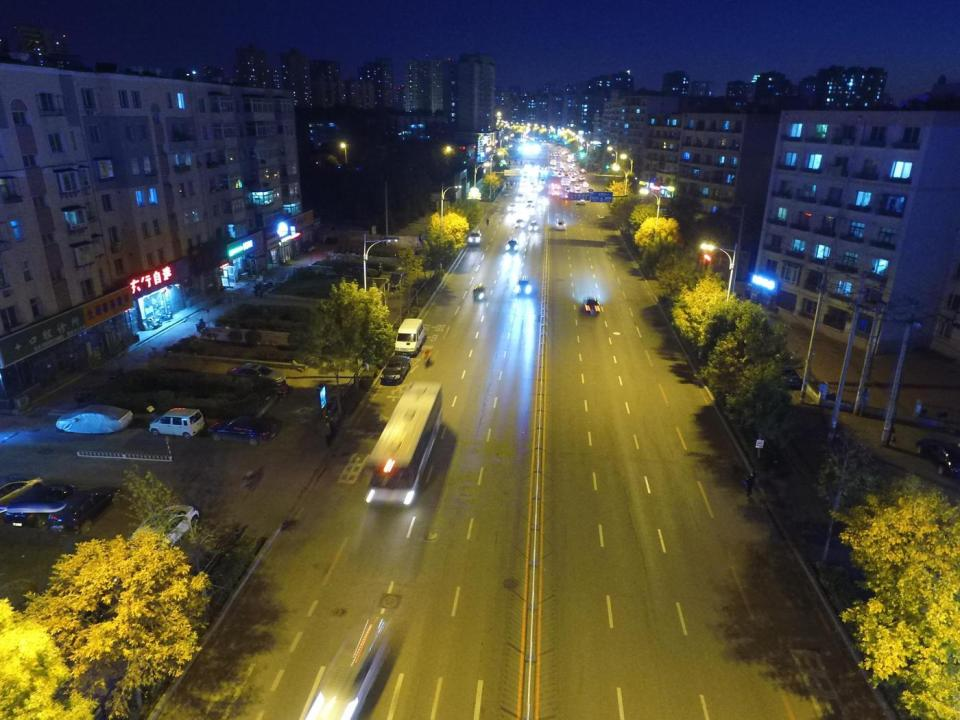bus: (363, 382, 437, 510)
car: (300, 618, 390, 720), (125, 502, 197, 562), (50, 484, 122, 536), (6, 483, 70, 526), (56, 402, 132, 435), (0, 468, 43, 522), (208, 418, 280, 447), (915, 434, 960, 479), (222, 357, 286, 384), (381, 354, 410, 386), (776, 365, 804, 391), (583, 292, 603, 317), (515, 278, 534, 296), (466, 228, 483, 248), (471, 282, 486, 302), (506, 238, 520, 255), (555, 217, 566, 232), (527, 219, 538, 232), (514, 217, 525, 229), (524, 200, 535, 211), (507, 203, 518, 213), (660, 207, 671, 217), (551, 182, 561, 192), (513, 194, 524, 202), (538, 196, 546, 207), (578, 198, 586, 208), (553, 188, 560, 198), (541, 163, 548, 171), (566, 192, 574, 199), (539, 178, 546, 185), (578, 176, 586, 182), (580, 168, 588, 174), (570, 176, 578, 182), (586, 188, 594, 194), (582, 182, 589, 188), (570, 176, 577, 182), (573, 185, 580, 190), (576, 190, 584, 194), (565, 187, 571, 192), (551, 165, 557, 170), (556, 173, 562, 178), (554, 170, 560, 174), (556, 145, 562, 149)
truck: (561, 175, 570, 186)
van: (146, 407, 206, 436), (393, 316, 426, 357), (352, 263, 385, 279), (388, 268, 410, 292)
